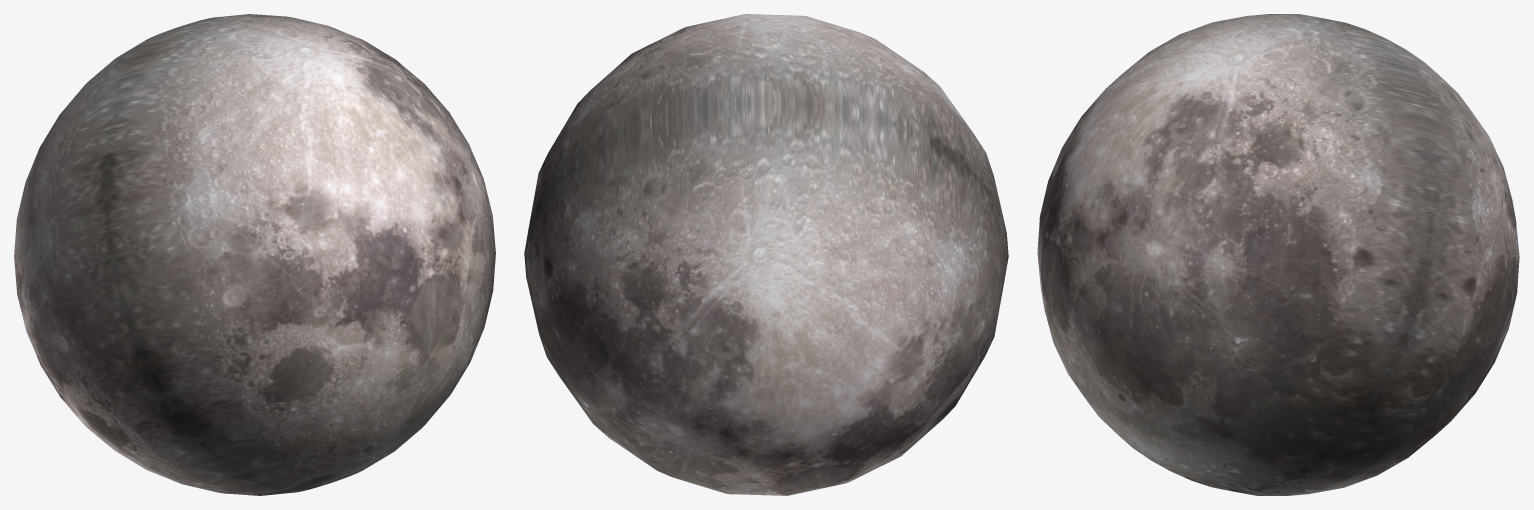
Rendered from Luna.fbx.
3 views of the same model, side by side, from view 1: azimuth 30°, elevation 25°; view 2: azimuth 150°, elevation 25°; view 3: azimuth 270°, elevation 25° (orthographic).
Visible parts, largest first — view 1: pSphere1; view 2: pSphere1; view 3: pSphere1.
Boxes of the visible parts, x1=… form: pSphere1: x1=14, y1=14, x2=495, y2=495; pSphere1: x1=524, y1=14, x2=1008, y2=495; pSphere1: x1=1037, y1=14, x2=1519, y2=495.
Size of the model in its own units: 5.23 by 5.29 by 5.27.
Materials: 1 (1 with a texture image).
